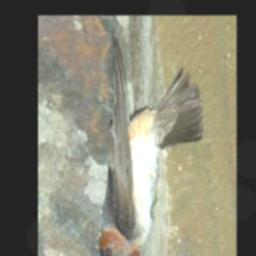Swallow: (98, 32, 204, 256)
